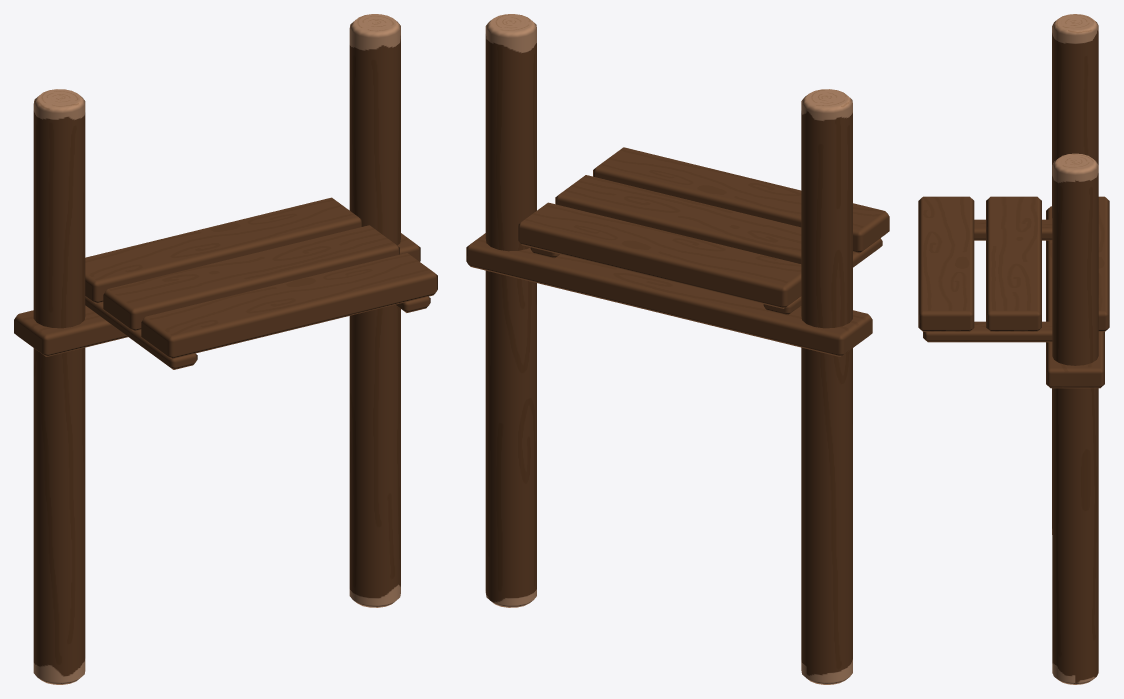
Rendered from M_Small_Cap_High.fbx.
3 views of the same model, side by side, from view 1: azimuth 30°, elevation 25°; view 2: azimuth 150°, elevation 25°; view 3: azimuth 270°, elevation 25° (orthographic). The views are drawn at different scales.
Visible parts, largest first — view 1: M_Small_Cap_High; view 2: M_Small_Cap_High; view 3: M_Small_Cap_High.
Part boxes in pixels (x1,y1,x2,y2): M_Small_Cap_High: [14, 14, 437, 684]; M_Small_Cap_High: [466, 14, 889, 684]; M_Small_Cap_High: [918, 14, 1109, 684].
Bounding box in the file's own units: 420 × 613 × 205.
